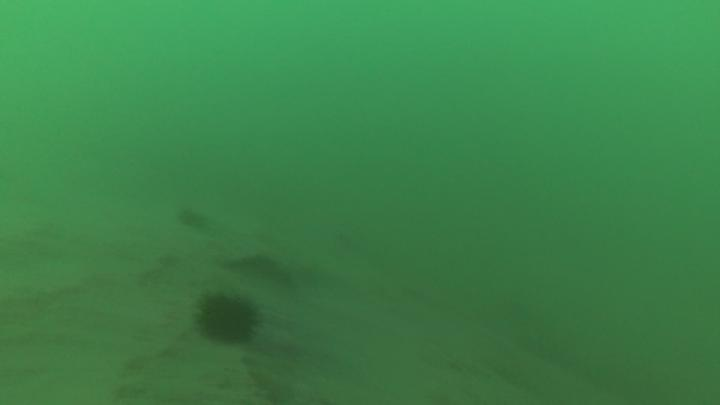echinus: (198, 295, 255, 343)
